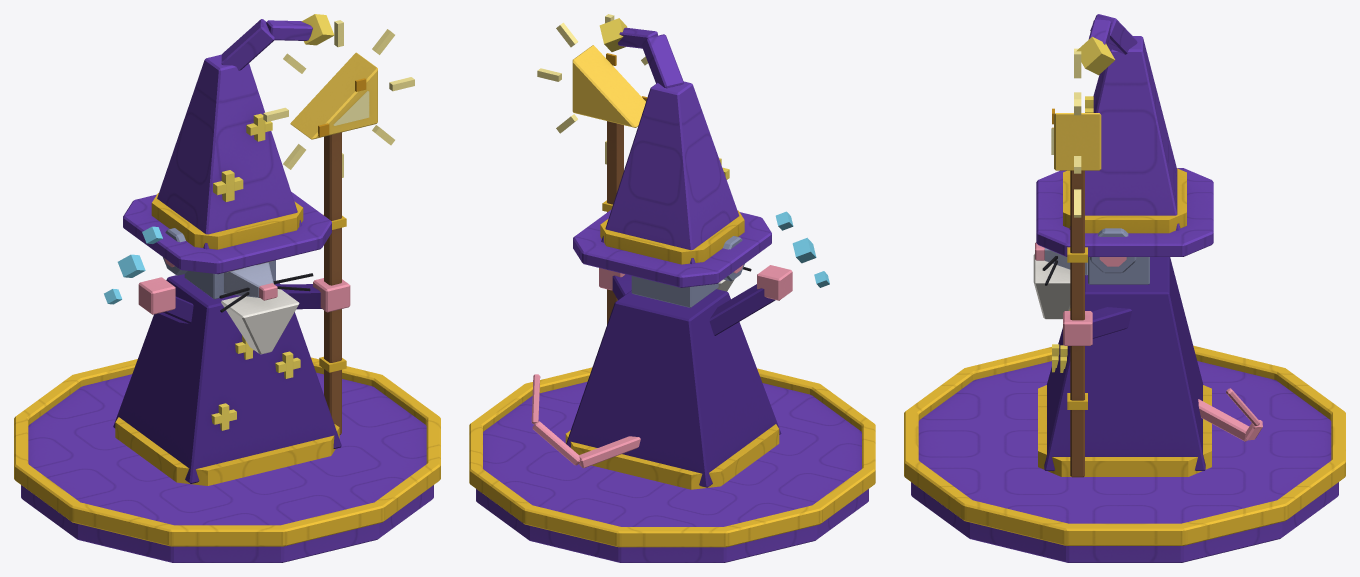
The model's file is RatWizard.fbx.
3 views of the same model, side by side, from view 1: azimuth 30°, elevation 25°; view 2: azimuth 150°, elevation 25°; view 3: azimuth 270°, elevation 25° (orthographic). The views are drawn at different scales.
Visible parts, largest first — view 1: Art_RatWizard_Stand, Art_RatWizard_Body, Art_RatWizard_Hat, Art_RatWizard_ArmR, Art_RatWizard_Head, Art_RatWizard_HatTip, Art_RatWizard_ArmL; view 2: Art_RatWizard_Stand, Art_RatWizard_Body, Art_RatWizard_Hat, Art_RatWizard_ArmR, Art_RatWizard_ArmL, Art_RatWizard_HatTip, Art_RatWizard_Tail, Art_RatWizard_Head; view 3: Art_RatWizard_Stand, Art_RatWizard_Body, Art_RatWizard_Hat, Art_RatWizard_ArmR, Art_RatWizard_Head, Art_RatWizard_HatTip, Art_RatWizard_Tail, Art_RatWizard_EarR.
Part boxes in pixels (x1,y1,x2,y2): Art_RatWizard_Stand: [14, 357, 440, 562]; Art_RatWizard_Body: [113, 274, 341, 485]; Art_RatWizard_Hat: [123, 54, 331, 274]; Art_RatWizard_ArmR: [263, 20, 414, 434]; Art_RatWizard_Head: [184, 260, 313, 354]; Art_RatWizard_HatTip: [221, 14, 334, 70]; Art_RatWizard_ArmL: [104, 226, 193, 323]; Art_RatWizard_Stand: [469, 367, 875, 562]; Art_RatWizard_Body: [565, 289, 781, 489]; Art_RatWizard_Hat: [573, 81, 771, 287]; Art_RatWizard_ArmR: [537, 14, 647, 324]; Art_RatWizard_ArmL: [709, 211, 829, 335]; Art_RatWizard_HatTip: [599, 18, 683, 88]; Art_RatWizard_Tail: [531, 374, 640, 468]; Art_RatWizard_Head: [631, 267, 751, 307]; Art_RatWizard_Stand: [904, 345, 1345, 562]; Art_RatWizard_Body: [1038, 257, 1211, 476]; Art_RatWizard_Hat: [1036, 36, 1213, 256]; Art_RatWizard_ArmR: [1051, 48, 1131, 477]; Art_RatWizard_Head: [1033, 242, 1149, 319]; Art_RatWizard_HatTip: [1076, 14, 1137, 75]; Art_RatWizard_Tail: [1198, 388, 1262, 441]; Art_RatWizard_EarR: [1090, 228, 1136, 273].
Bounding box in the file's own units: 2.99 × 3.54 × 2.99.
